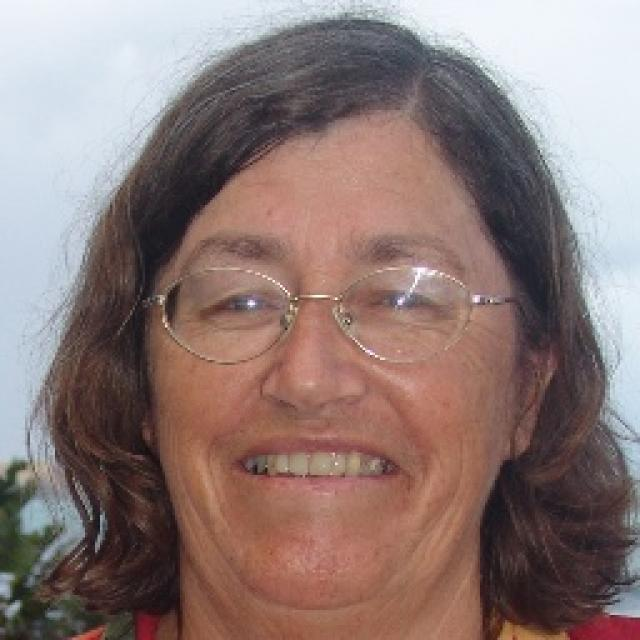earlobe: (504, 294, 564, 458)
